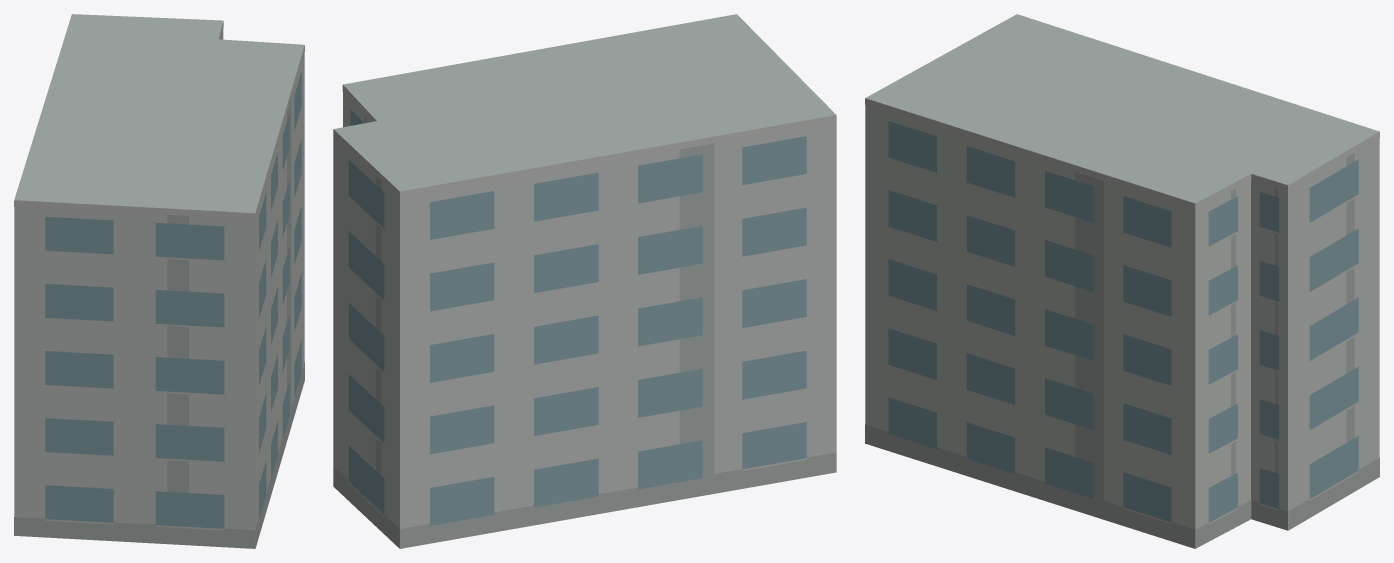
Rendered from survey-upis-32808436.glb.
3 views of the same model, side by side, from view 1: azimuth 30°, elevation 25°; view 2: azimuth 150°, elevation 25°; view 3: azimuth 270°, elevation 25° (orthographic). The views are drawn at different scales.
Parts seen in each view (by area): view 1: survey-upis-32808436.tmp; view 2: survey-upis-32808436.tmp; view 3: survey-upis-32808436.tmp.
Part boxes in pixels (x1,y1,x2,y2): survey-upis-32808436.tmp: (14, 14, 304, 548); survey-upis-32808436.tmp: (333, 14, 836, 548); survey-upis-32808436.tmp: (865, 14, 1379, 548).
Bounding box in the file's own units: 14.83 × 12.6 × 17.02.
